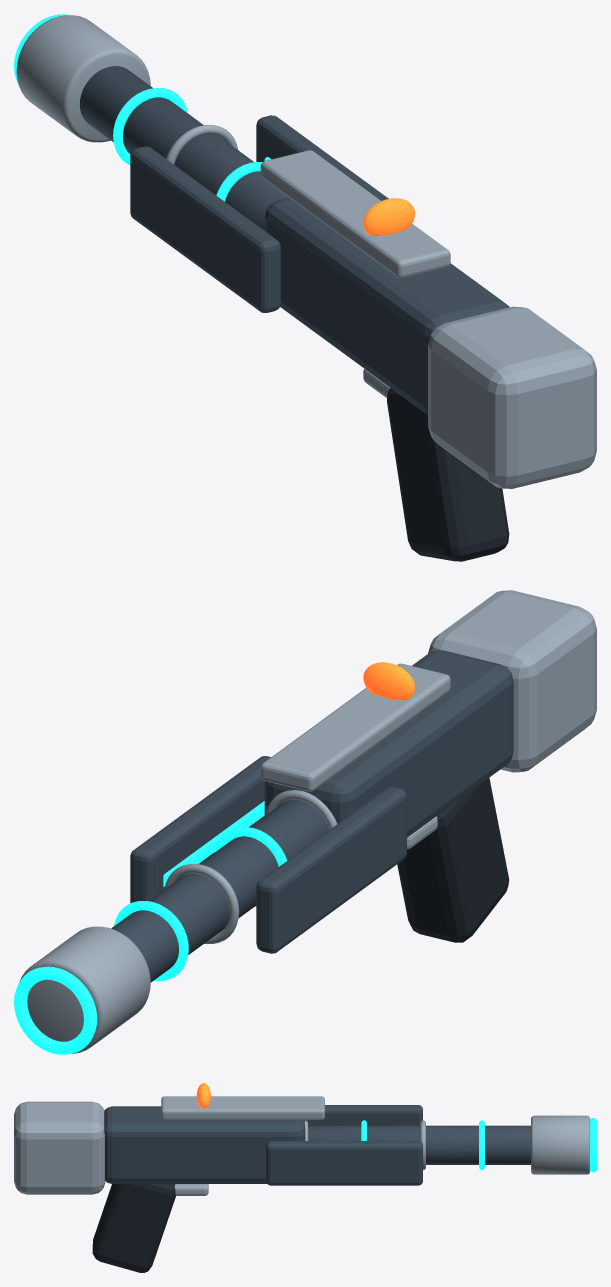
The model's file is scifi_laser_gun.glb.
The picture shows the model from 3 angles, top to bottom: view 1: azimuth 30°, elevation 25°; view 2: azimuth 150°, elevation 25°; view 3: azimuth 270°, elevation 25°; orthographic projection. The views are drawn at different scales.
Parts seen in each view (by area): view 1: LaserGun_RearBattery, LaserGun_MainReceiver, LaserGun_LeftCoolingFin, LaserGun_PistolGrip, LaserGun_BarrelShroud, LaserGun_TopSightRail, LaserGun_Muzzle, LaserGun_RightCoolingFin, LaserGun_TargetSensor, LaserGun_FieldCoil_4, LaserGun_FieldCoil_3; view 2: LaserGun_MainReceiver, LaserGun_RearBattery, LaserGun_LeftCoolingFin, LaserGun_PistolGrip, LaserGun_BarrelShroud, LaserGun_Muzzle, LaserGun_TopSightRail, LaserGun_RightCoolingFin, LaserGun_MuzzleGlow, LaserGun_TargetSensor, LaserGun_FieldCoil_3, LaserGun_FieldCoil_4 (+3 smaller); view 3: LaserGun_MainReceiver, LaserGun_RearBattery, LaserGun_RightCoolingFin, LaserGun_BarrelShroud, LaserGun_PistolGrip, LaserGun_TopSightRail, LaserGun_Muzzle, LaserGun_LeftCoolingFin, LaserGun_TriggerGuard, LaserGun_MuzzleGlow, LaserGun_TargetSensor, LaserGun_FieldCoil_4.
Boxes of the visible parts, x1=… form: LaserGun_RearBattery: x1=428, y1=306, x2=596, y2=488; LaserGun_MainReceiver: x1=264, y1=197, x2=509, y2=414; LaserGun_LeftCoolingFin: x1=130, y1=146, x2=280, y2=312; LaserGun_PistolGrip: x1=387, y1=388, x2=509, y2=561; LaserGun_BarrelShroud: x1=79, y1=66, x2=288, y2=230; LaserGun_TopSightRail: x1=260, y1=150, x2=450, y2=278; LaserGun_Muzzle: x1=16, y1=15, x2=150, y2=142; LaserGun_RightCoolingFin: x1=256, y1=115, x2=388, y2=200; LaserGun_TargetSensor: x1=363, y1=198, x2=414, y2=235; LaserGun_FieldCoil_4: x1=113, y1=88, x2=187, y2=165; LaserGun_FieldCoil_3: x1=166, y1=125, x2=238, y2=164; LaserGun_MainReceiver: x1=264, y1=650, x2=513, y2=837; LaserGun_RearBattery: x1=428, y1=590, x2=596, y2=772; LaserGun_LeftCoolingFin: x1=256, y1=786, x2=406, y2=953; LaserGun_PistolGrip: x1=397, y1=778, x2=509, y2=942; LaserGun_BarrelShroud: x1=111, y1=799, x2=328, y2=982; LaserGun_Muzzle: x1=19, y1=926, x2=150, y2=1053; LaserGun_TopSightRail: x1=260, y1=663, x2=450, y2=791; LaserGun_RightCoolingFin: x1=130, y1=756, x2=270, y2=903; LaserGun_MuzzleGlow: x1=14, y1=966, x2=97, y2=1054; LaserGun_TargetSensor: x1=363, y1=662, x2=414, y2=700; LaserGun_FieldCoil_3: x1=164, y1=864, x2=239, y2=944; LaserGun_FieldCoil_4: x1=114, y1=901, x2=188, y2=980; LaserGun_MainReceiver: x1=104, y1=1106, x2=305, y2=1183; LaserGun_RearBattery: x1=14, y1=1101, x2=105, y2=1194; LaserGun_RightCoolingFin: x1=266, y1=1141, x2=422, y2=1185; LaserGun_BarrelShroud: x1=308, y1=1125, x2=530, y2=1164; LaserGun_PistolGrip: x1=92, y1=1184, x2=175, y2=1272; LaserGun_TopSightRail: x1=161, y1=1096, x2=324, y2=1119; LaserGun_Muzzle: x1=531, y1=1115, x2=589, y2=1174; LaserGun_LeftCoolingFin: x1=305, y1=1105, x2=422, y2=1125; LaserGun_TriggerGuard: x1=174, y1=1184, x2=208, y2=1195; LaserGun_MuzzleGlow: x1=590, y1=1117, x2=596, y2=1172; LaserGun_TargetSensor: x1=196, y1=1083, x2=210, y2=1108; LaserGun_FieldCoil_4: x1=479, y1=1120, x2=484, y2=1169.
Size of the model in its own units: 0.305 by 0.6145 by 1.78.
